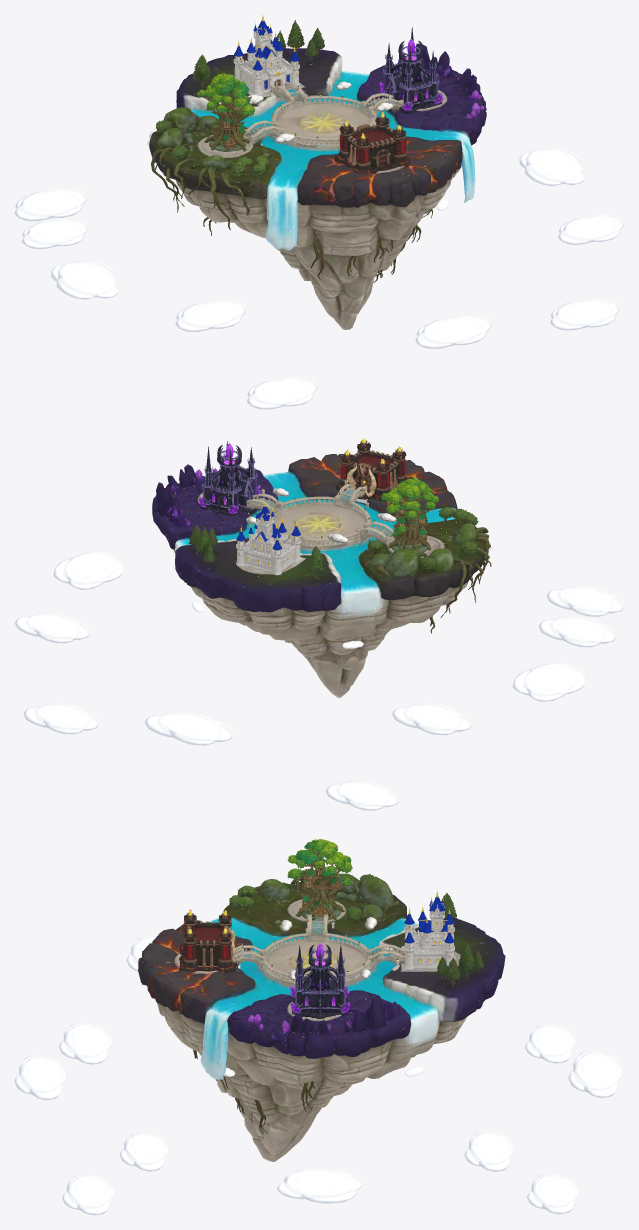
File: home-diorama-v2.glb
The picture shows the model from 3 angles, top to bottom: view 1: azimuth 30°, elevation 25°; view 2: azimuth 150°, elevation 25°; view 3: azimuth 270°, elevation 25°; orthographic projection. The views are drawn at different scales.
Parts seen in each view (by area): view 1: Tripo_Floating_Island_Base, Props_Floating_Cloud_Ring, Castle_Dragon_Hero, Castle_Kingdom_Hero, Castle_Demon_Hero, Castle_Forest_Hero; view 2: Tripo_Floating_Island_Base, Props_Floating_Cloud_Ring, Castle_Demon_Hero, Castle_Kingdom_Hero, Castle_Dragon_Hero, Castle_Forest_Hero; view 3: Tripo_Floating_Island_Base, Props_Floating_Cloud_Ring, Castle_Forest_Hero, Castle_Demon_Hero, Castle_Dragon_Hero, Castle_Kingdom_Hero.
Boxes of the visible parts, x1,y1,x2,y2 form: Tripo_Floating_Island_Base: [149, 20, 486, 329]; Props_Floating_Cloud_Ring: [14, 117, 624, 409]; Castle_Dragon_Hero: [335, 112, 410, 174]; Castle_Kingdom_Hero: [233, 15, 304, 97]; Castle_Demon_Hero: [379, 27, 443, 113]; Castle_Forest_Hero: [197, 73, 254, 151]; Tripo_Floating_Island_Base: [152, 454, 491, 697]; Props_Floating_Cloud_Ring: [14, 522, 624, 810]; Castle_Demon_Hero: [198, 441, 260, 515]; Castle_Kingdom_Hero: [236, 501, 305, 575]; Castle_Dragon_Hero: [336, 438, 407, 501]; Castle_Forest_Hero: [381, 477, 439, 553]; Tripo_Floating_Island_Base: [138, 869, 505, 1161]; Props_Floating_Cloud_Ring: [14, 936, 624, 1215]; Castle_Forest_Hero: [287, 839, 352, 920]; Castle_Demon_Hero: [290, 943, 350, 1018]; Castle_Dragon_Hero: [179, 909, 242, 973]; Castle_Kingdom_Hero: [401, 891, 457, 971].
Bounding box in the file's own units: 119 × 56.74 × 115.
16 materials, 5 textured.
